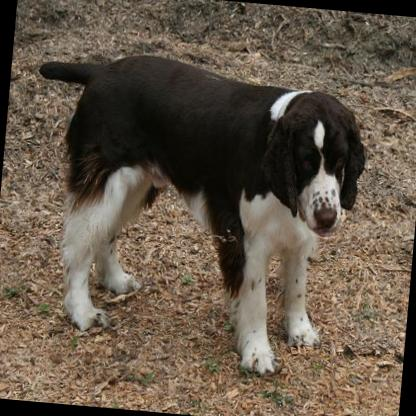English_springer: (12, 45, 374, 385)
